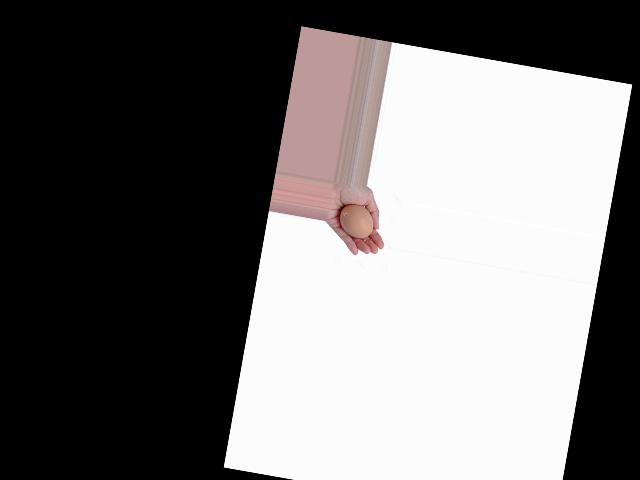egg: (336, 202, 376, 240)
